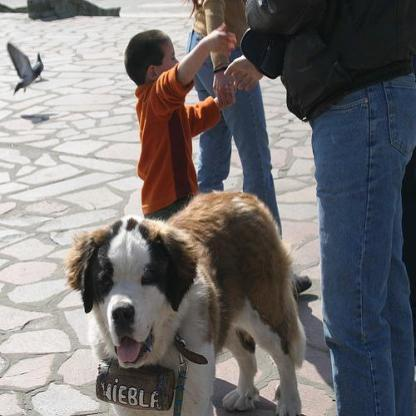Saint_Bernard: (61, 188, 304, 413)
